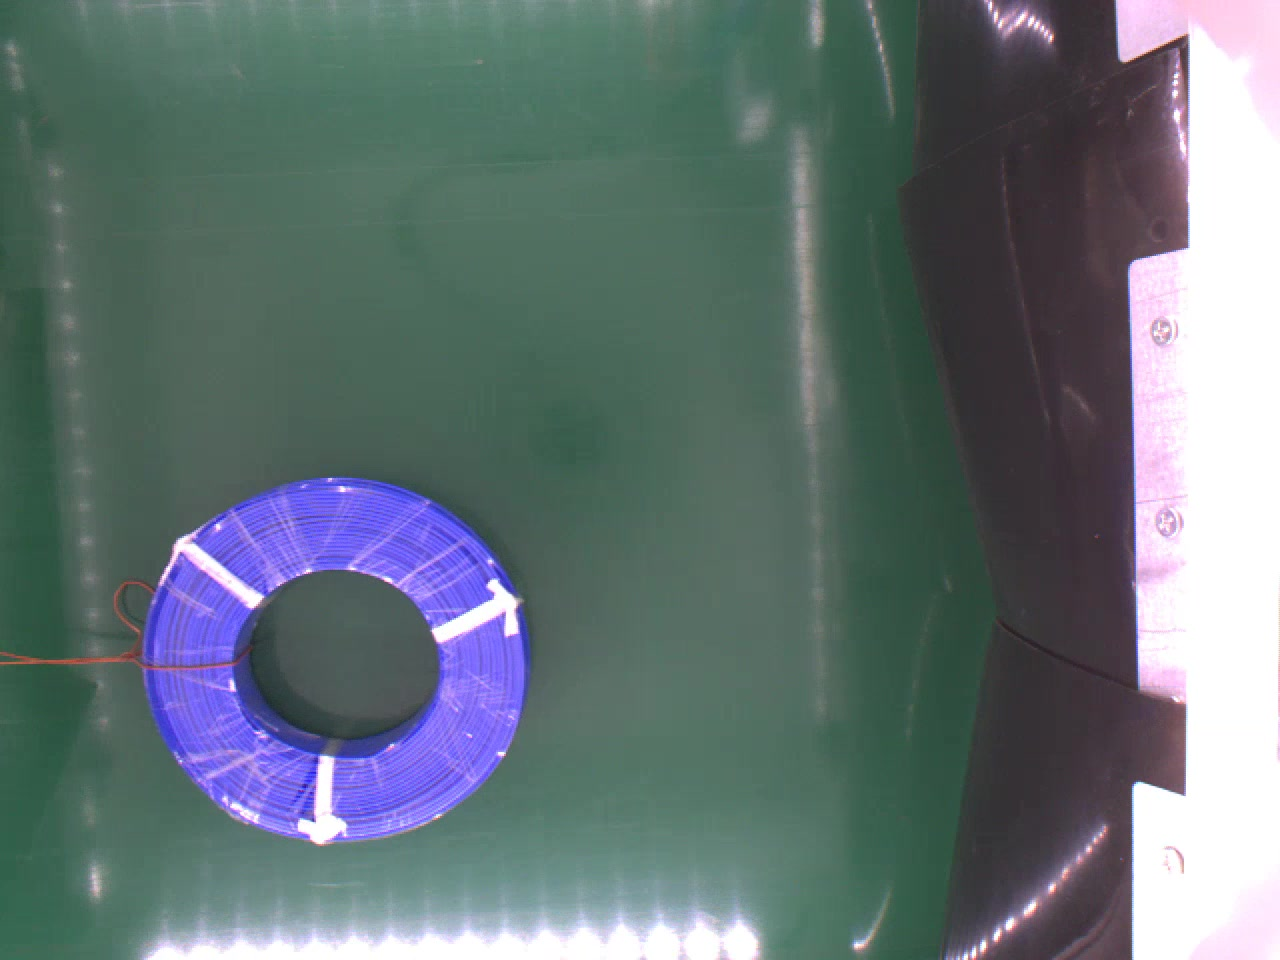blue: (139, 472, 532, 844)
